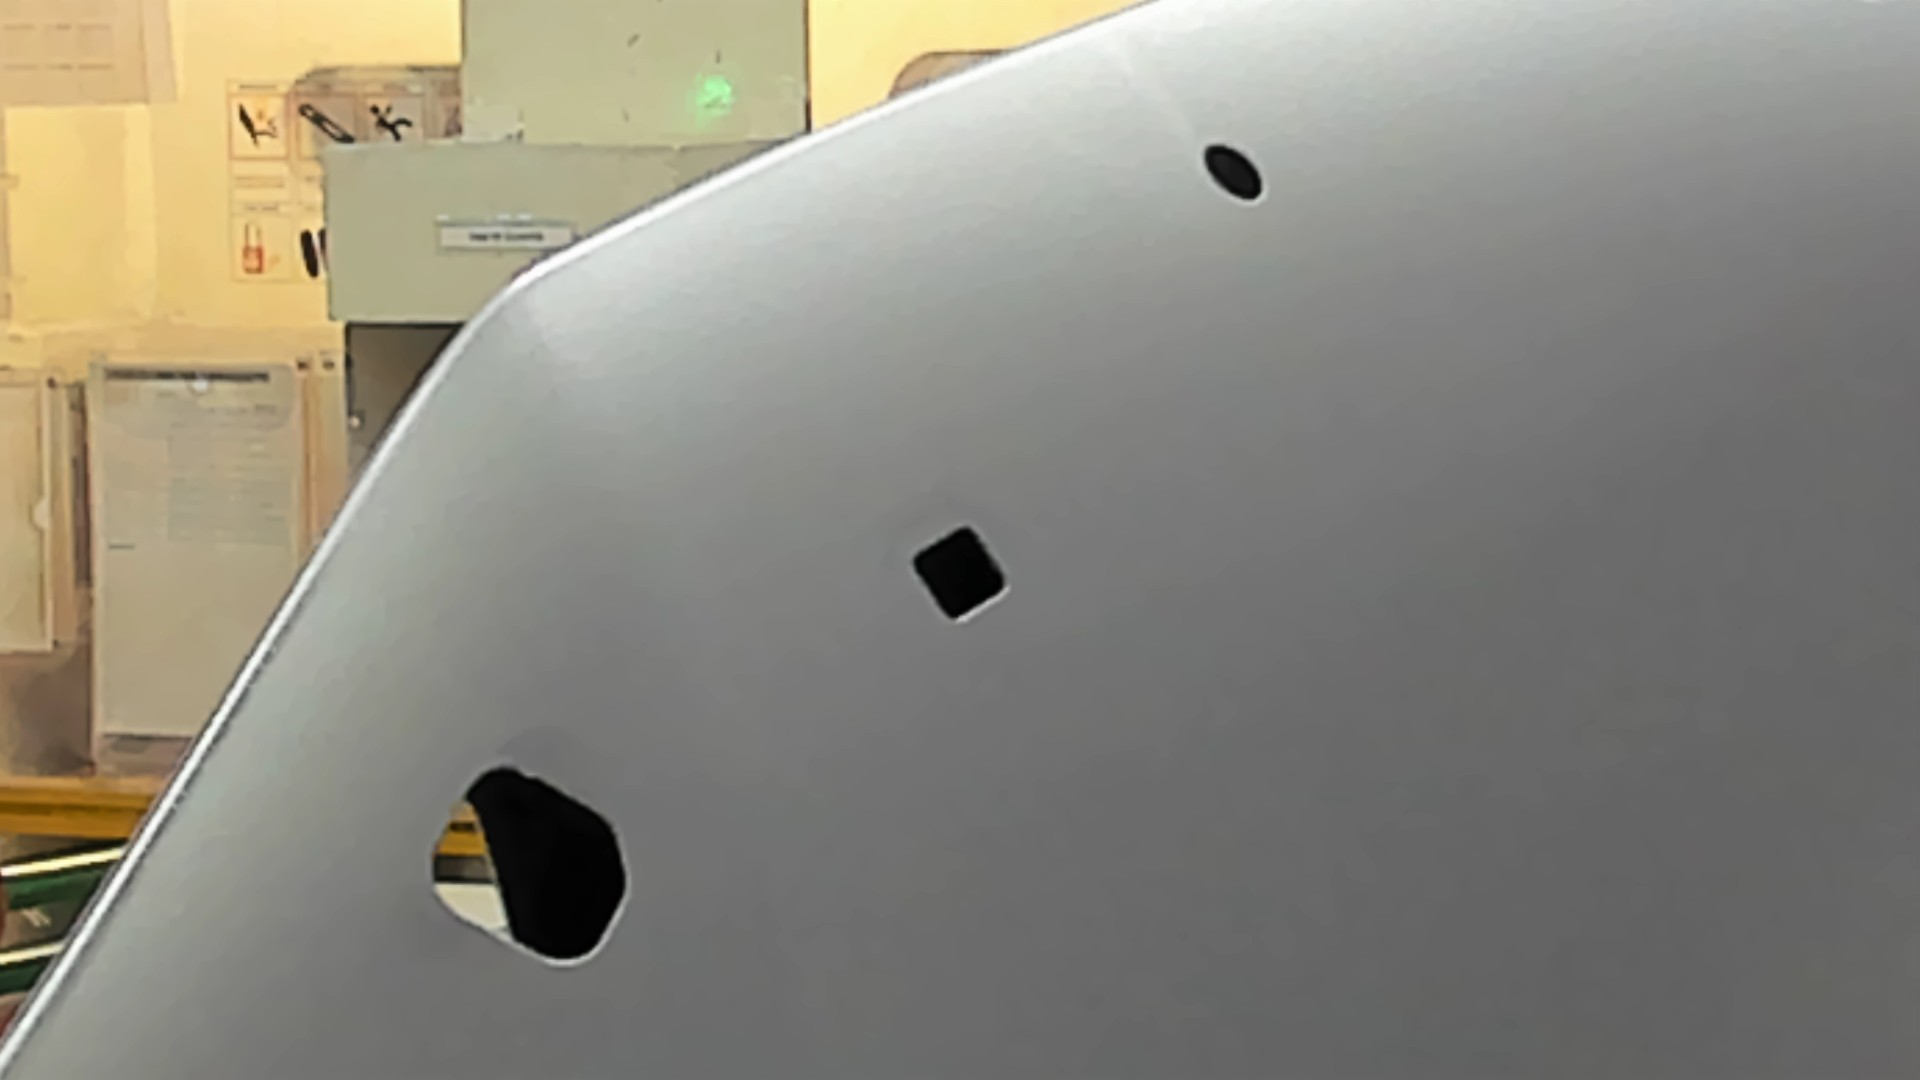chico: (1183, 127, 1288, 222)
grande: (398, 750, 654, 985)
mediano: (891, 512, 1029, 637)
